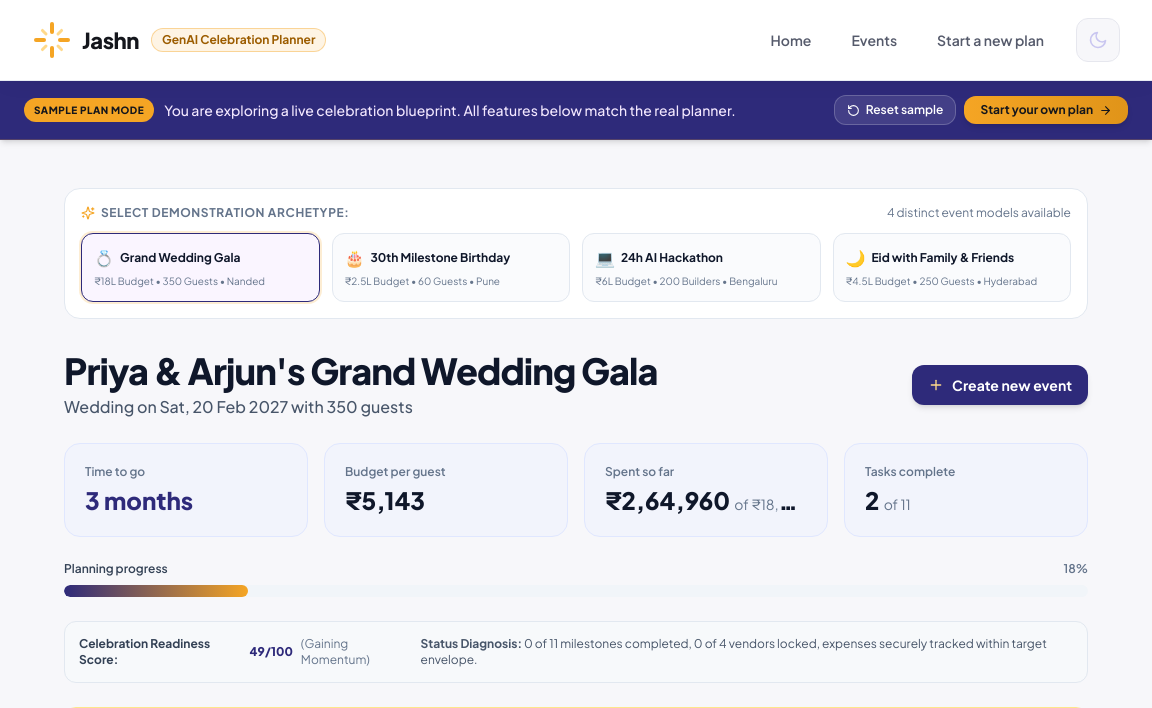
Test: SamplePlanPage Integration › switches sample celebration archetype on click
The width and height of the screenshot is (1152, 708).
Step 1. Click the text "30th Milestone Birthday" → (440, 258), box [370,250,510,266]
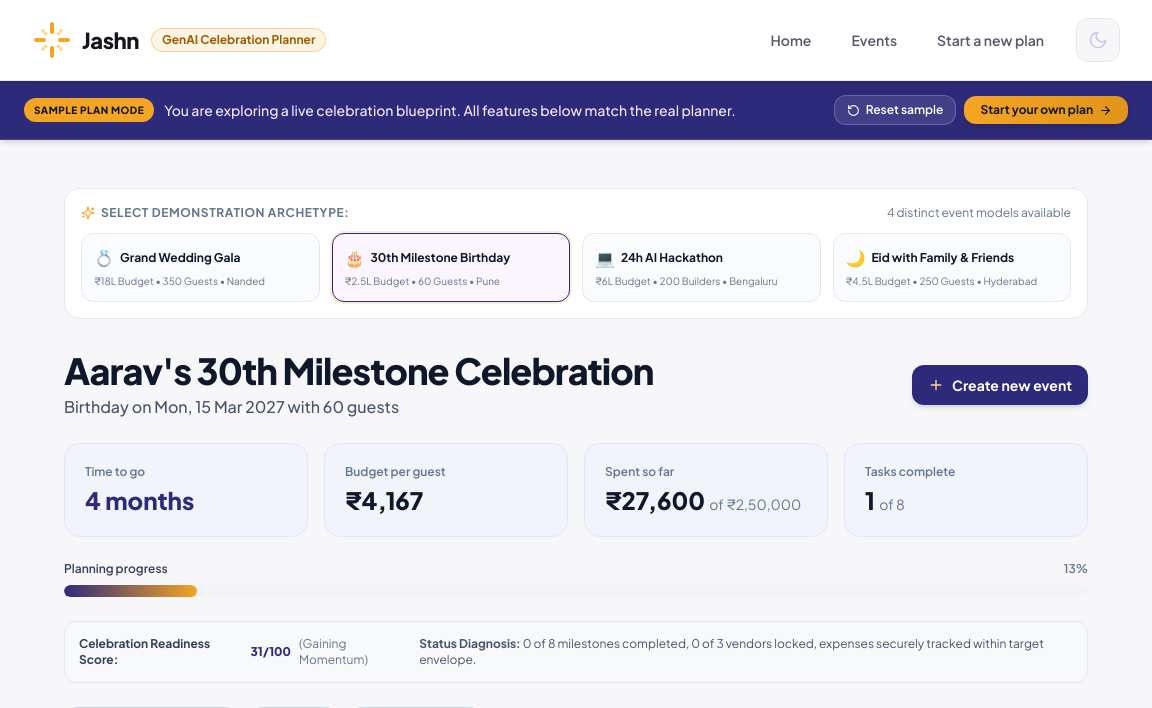
Result: the heading "Aarav's 30th Milestone Celebration" is shown at [64,351,653,391]
